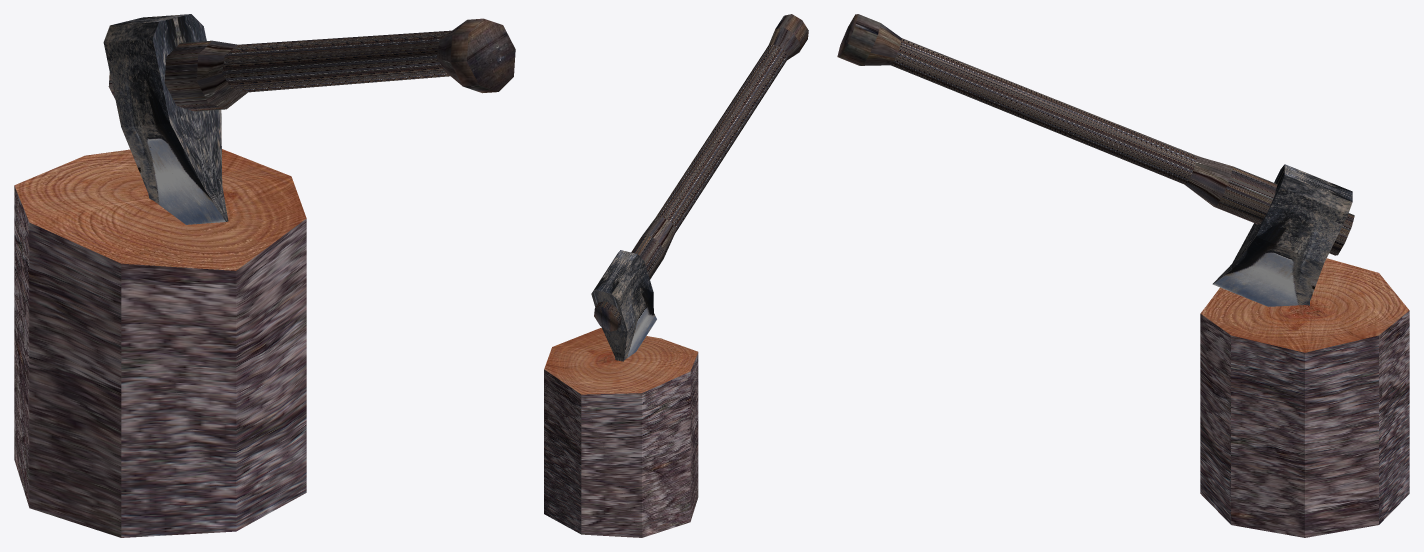
The model's file is Vl_ChoppingBlock.glb.
3 renders of one model, left to right at view 1: azimuth 30°, elevation 25°; view 2: azimuth 150°, elevation 25°; view 3: azimuth 270°, elevation 25°, orthographic. The views are drawn at different scales.
Visible parts, largest first — view 1: WoodChop; view 2: WoodChop; view 3: WoodChop.
Part boxes in pixels (x1,y1,x2,y2): WoodChop: (14,14,515,537); WoodChop: (544,14,808,537); WoodChop: (837,14,1409,537).
Size of the model in its own units: 0.4 by 1.01 by 1.09.
4 materials, 4 textured.
